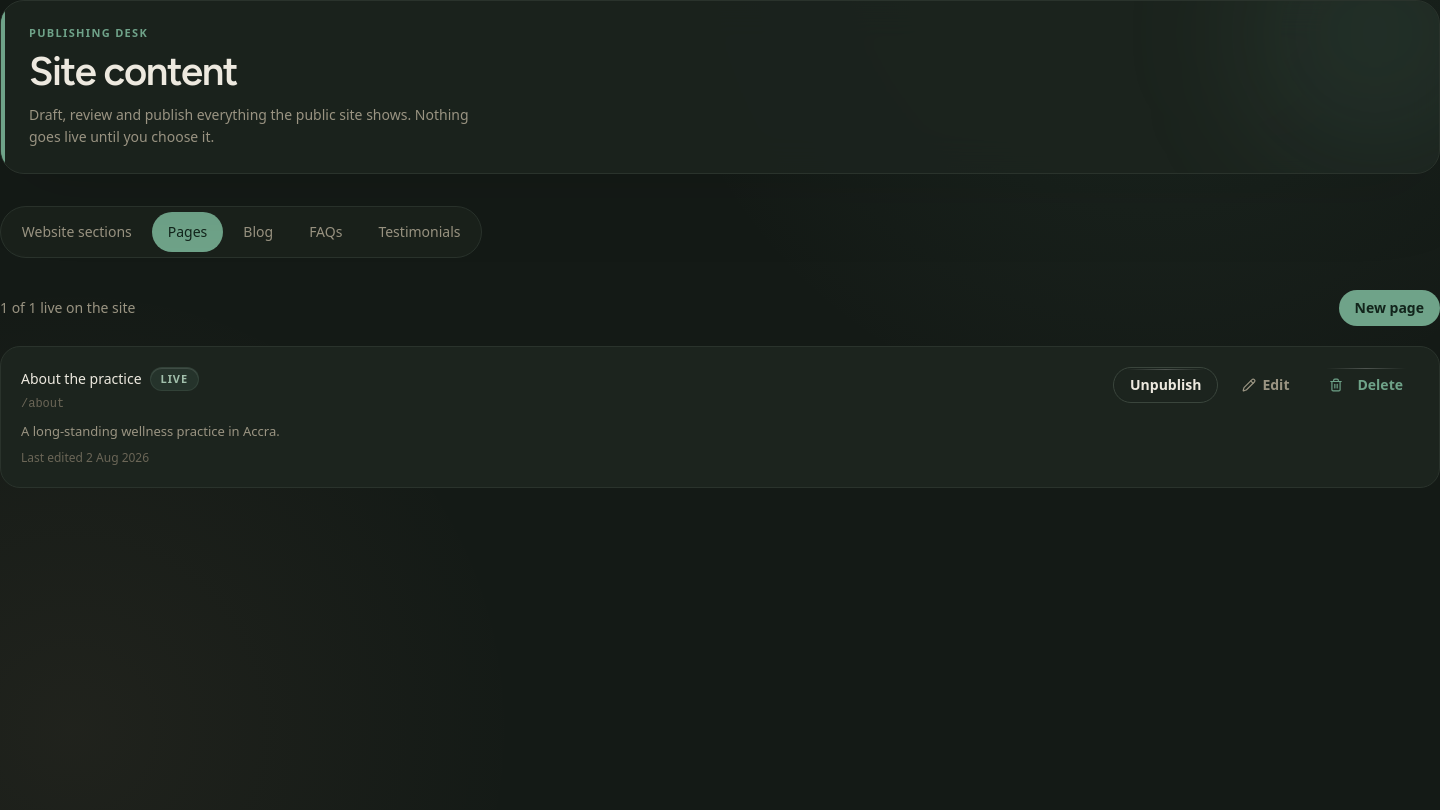
ContentPage › asks before deleting a live page and says it is live
expect the heading "About the practice" is shown: met, box [21, 369, 142, 389]
Step 1. Click the button "Delete" → (1366, 385), box [1314, 367, 1419, 403]
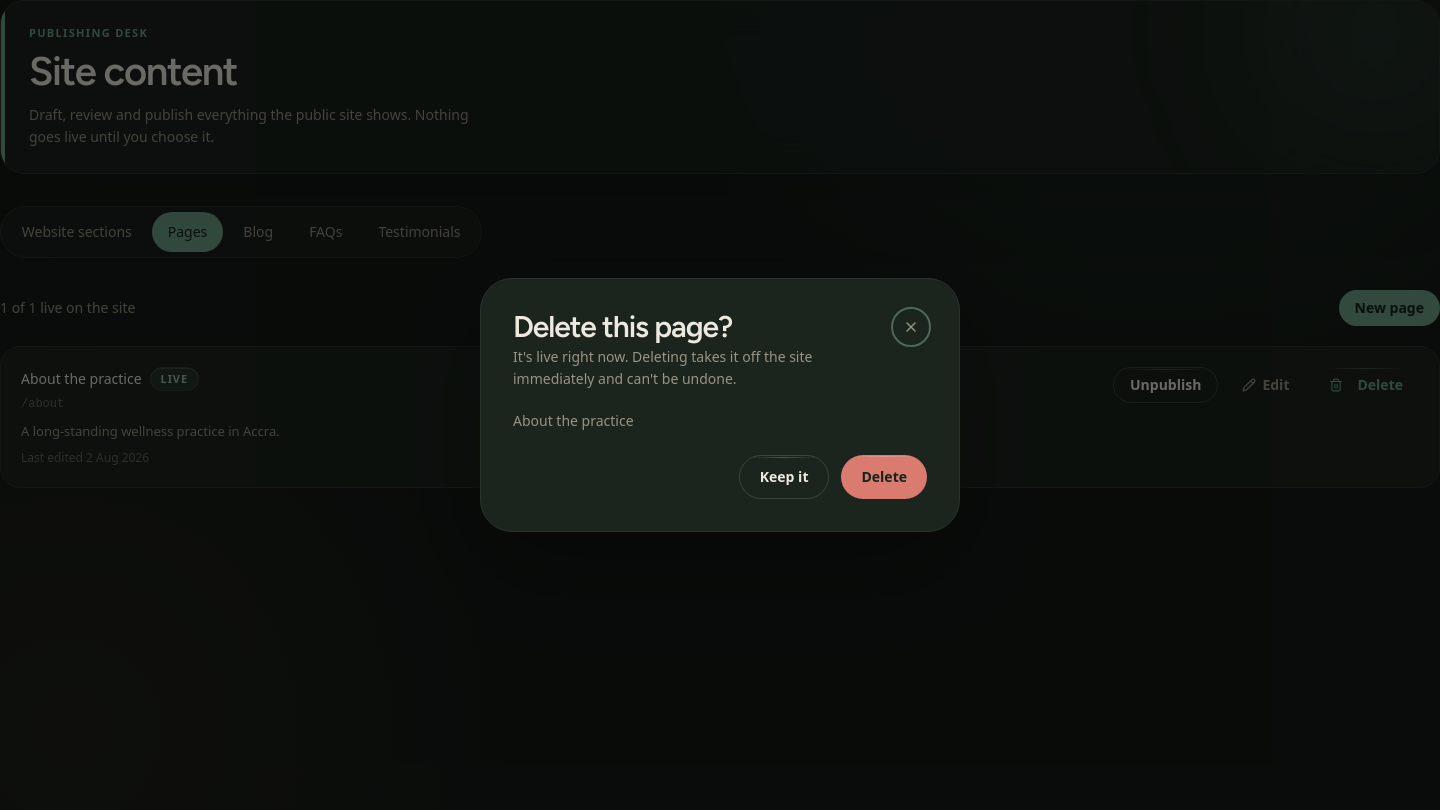
expect the text "live right now" is shown: met, box [513, 347, 812, 388]
Step 2. Click the button "Delete" → (884, 477), box [842, 455, 927, 499]
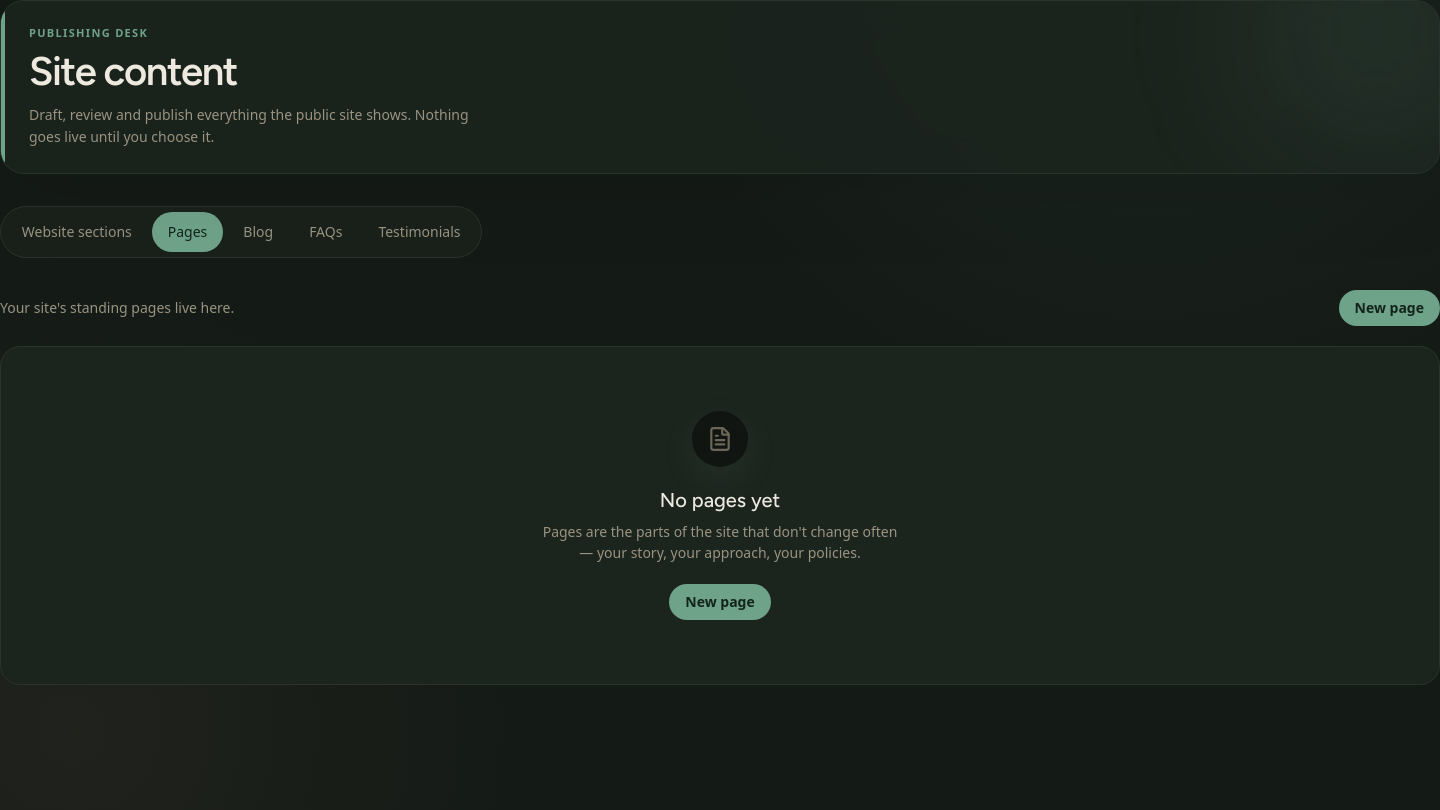
expect the heading "About the practice" is gone: met
